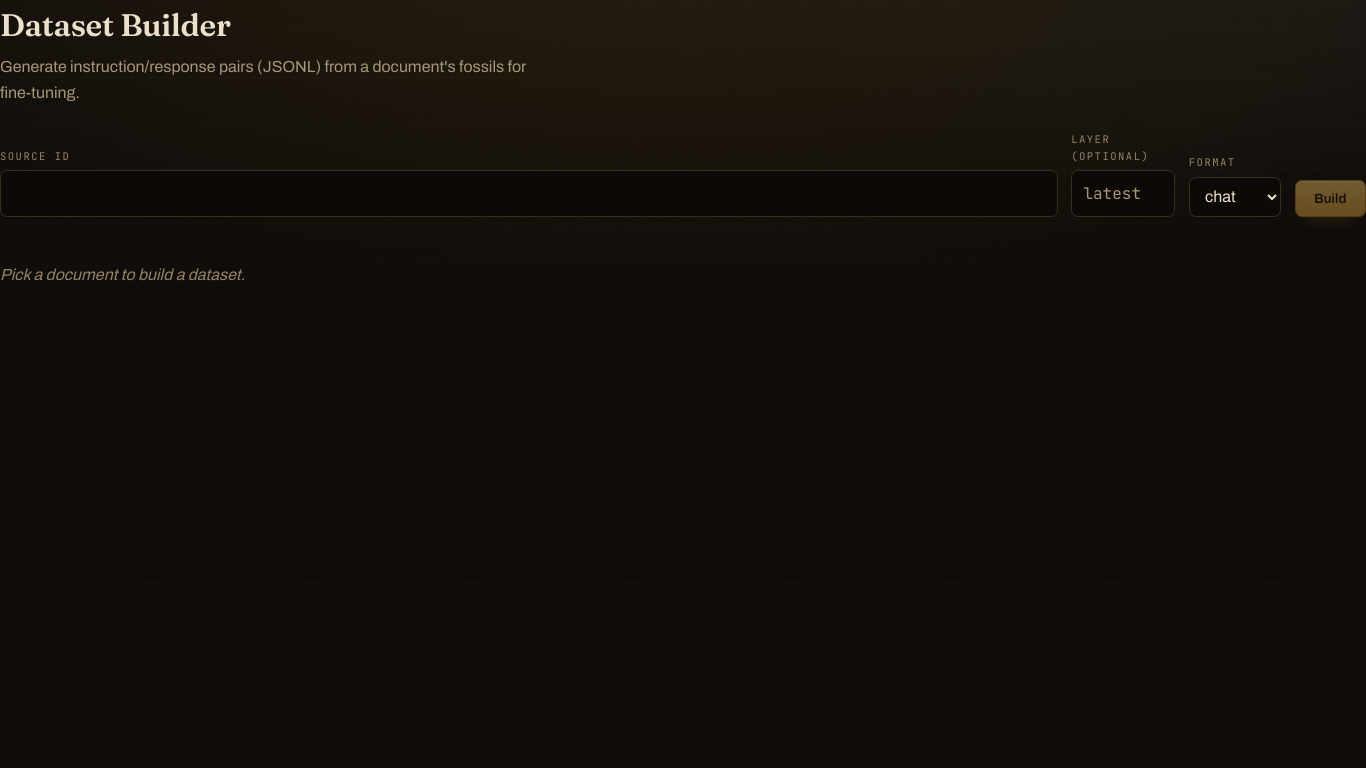
Test: DatasetPanel › surfaces a 404 for an unknown source
This screenshot has width=1366, height=768.
Step 1. Type "ghost" into the field labelled "Source id" → (529, 194), box [0,170,1058,217]
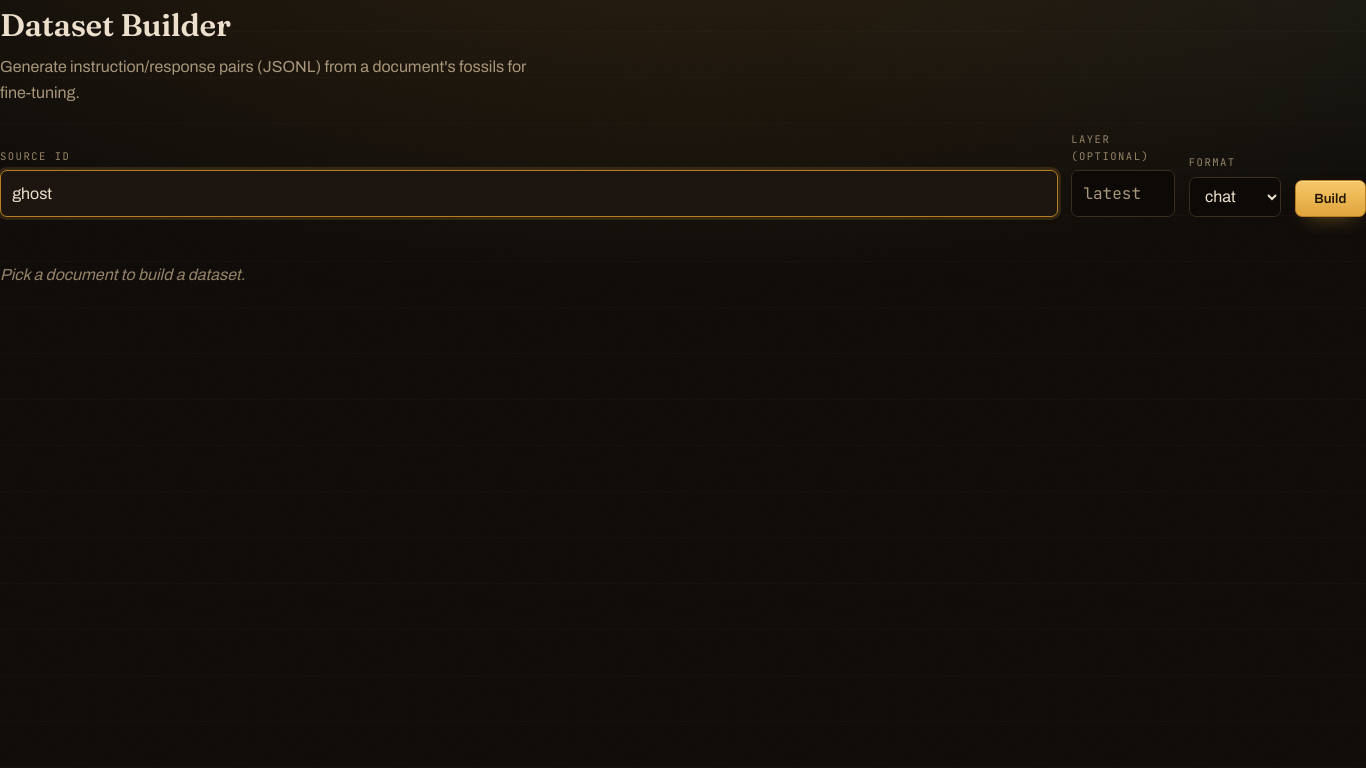
Step 2. Click the button "Build" → click(1330, 198), box [1295,180,1365,217]
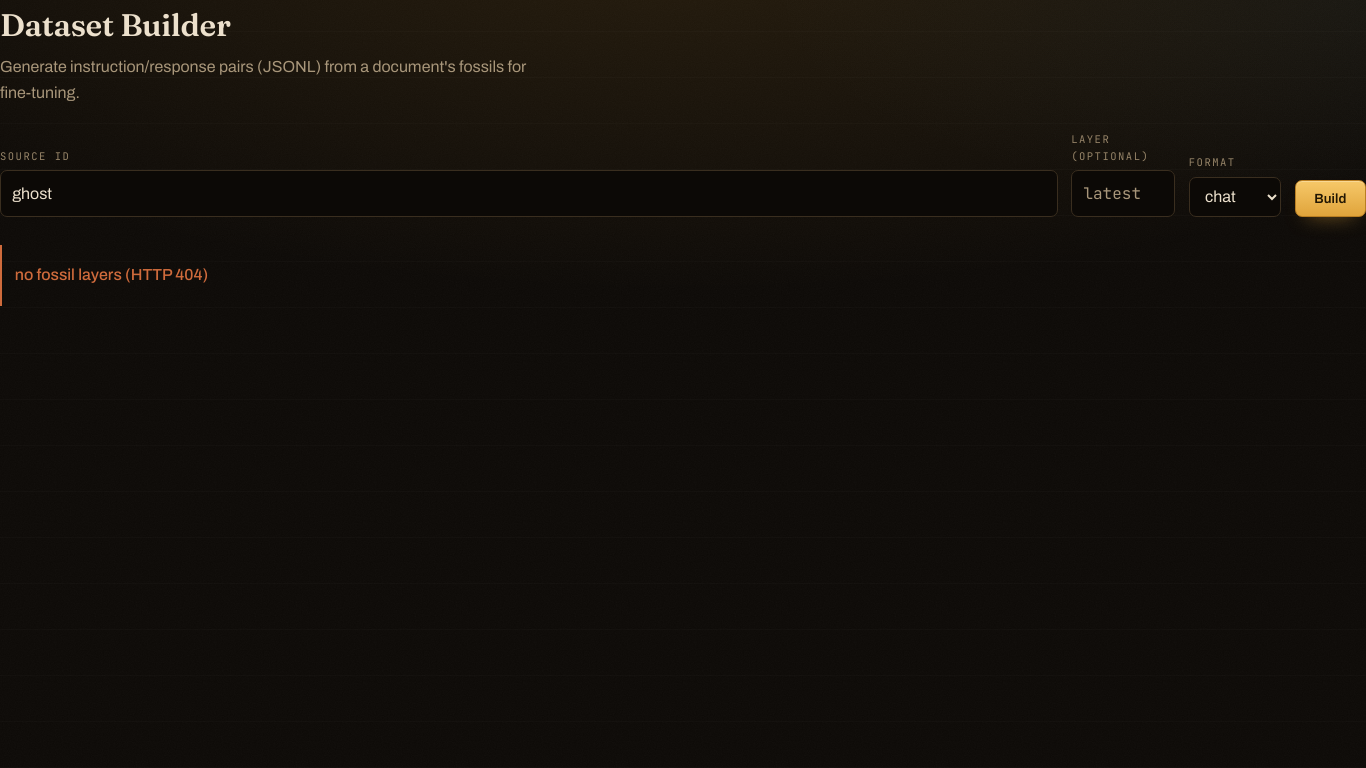
Check: the message shows "no fossil layers", box [15,266,208,284]
